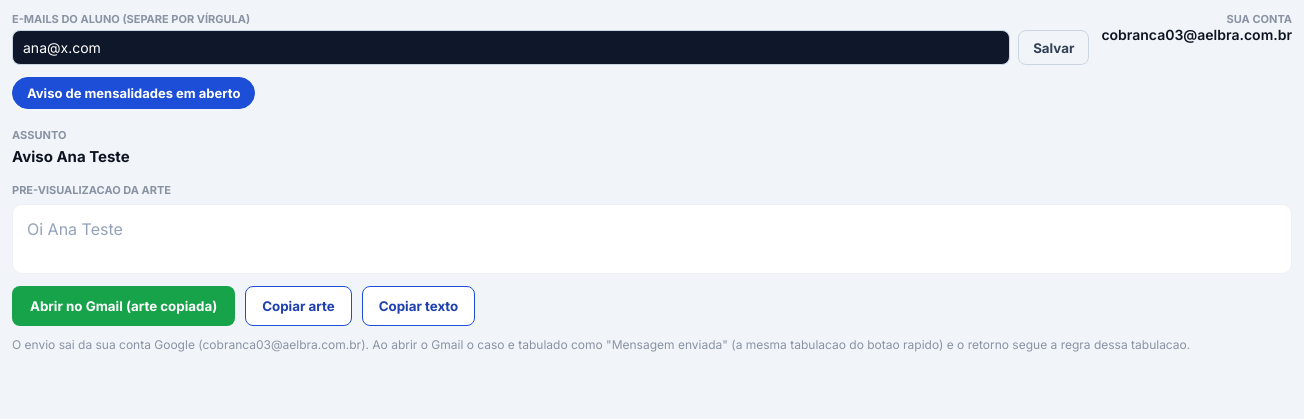
EmailAlunoUnificado › caso fora da mão do operador (aguardando baixa) registra o e-mail sem trocar a tabulação
The width and height of the screenshot is (1304, 419).
Step 1. Click the button "Abrir no Gmail (arte copiada)" → (124, 306), box [12, 286, 235, 326]
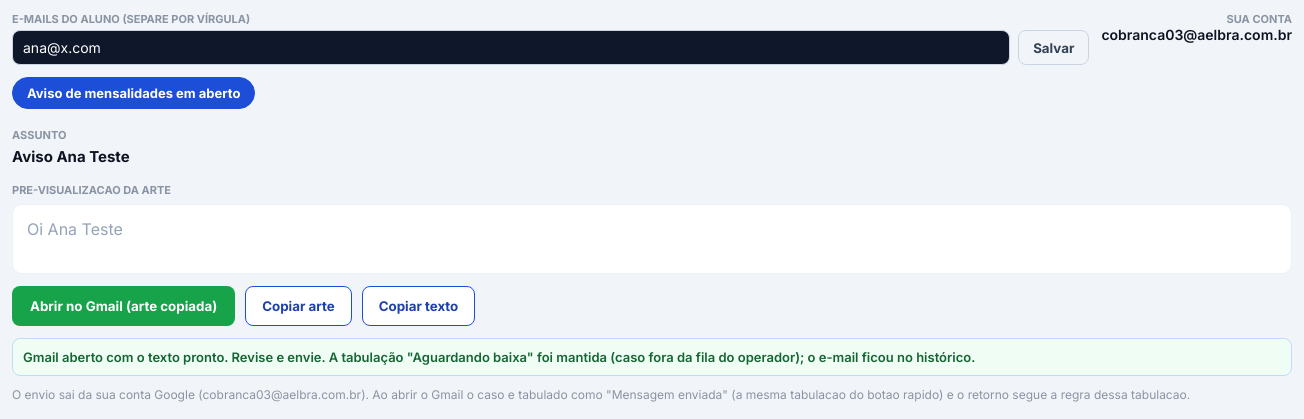
Check: the text "A tabulação \"Aguardando baixa\" foi mantida" is shown, box [23, 349, 975, 365]
